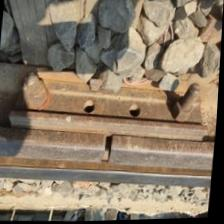person: (76, 121, 141, 177)
